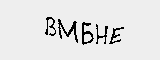М: (93, 22, 121, 45)
С: (57, 23, 73, 44)
Т: (122, 19, 139, 47), (43, 24, 56, 41)
У: (71, 23, 88, 44)
Ұ: (18, 22, 41, 39)
